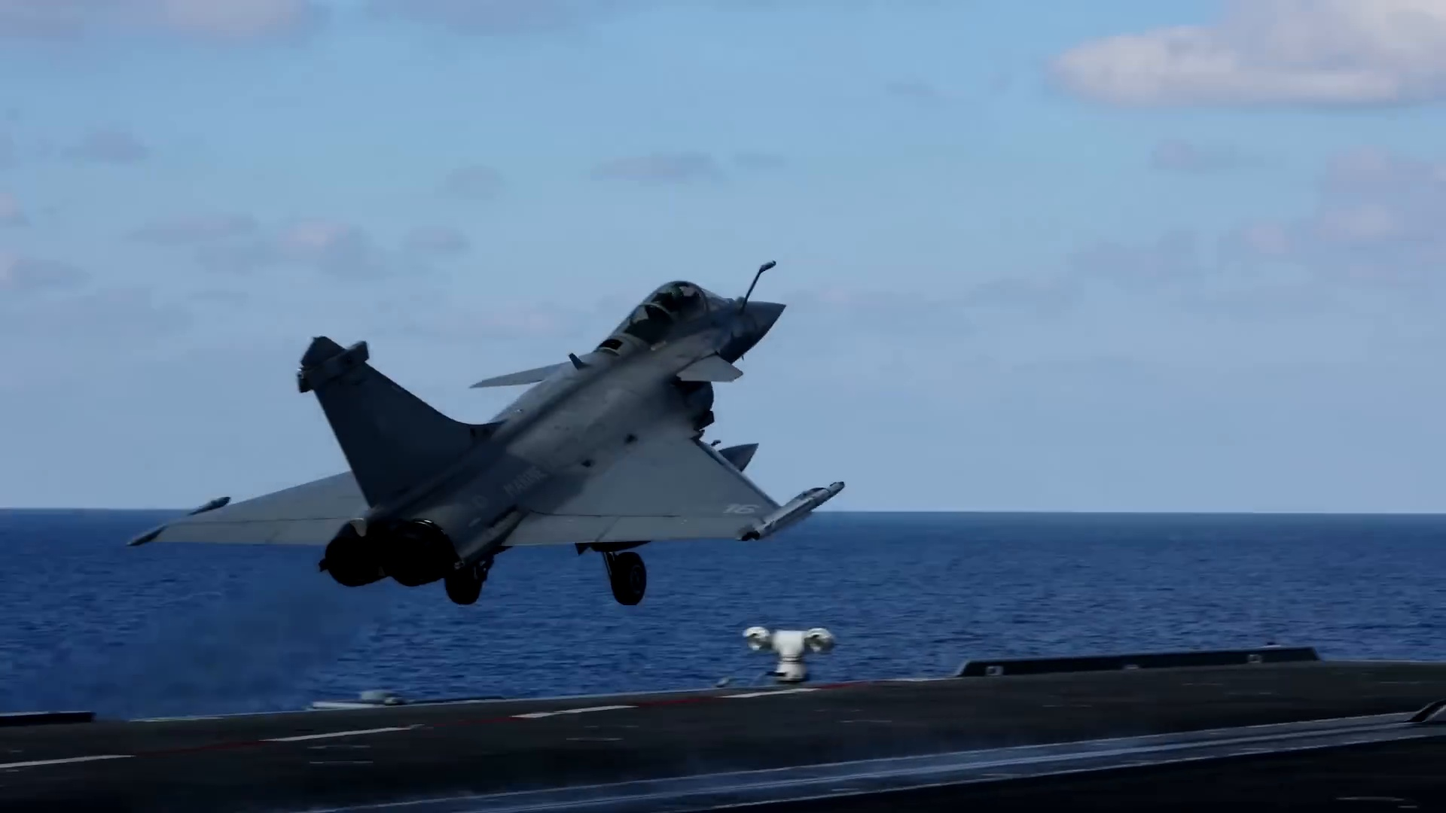Rafale: (126, 260, 845, 604)
